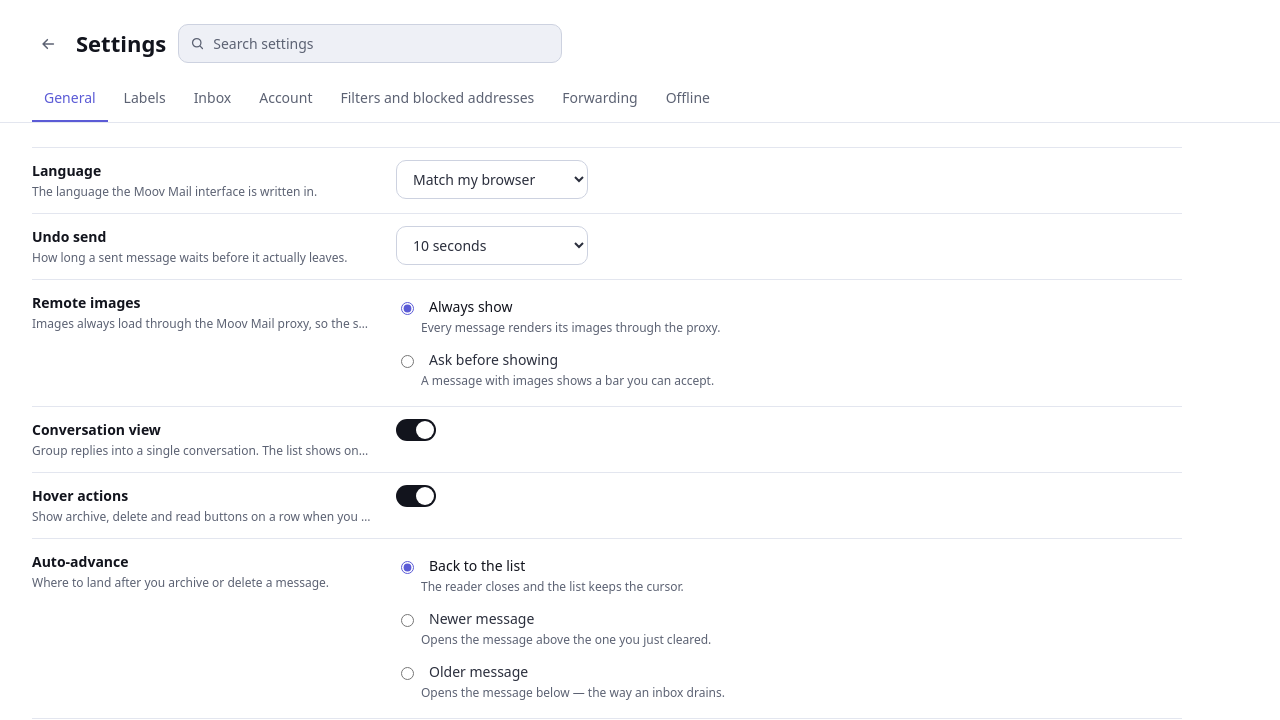
Test case: the tab row › switches the panel when a tab is chosen
The width and height of the screenshot is (1280, 720).
Click the tab "Inbox".
click(212, 98)  # box [182, 75, 243, 122]
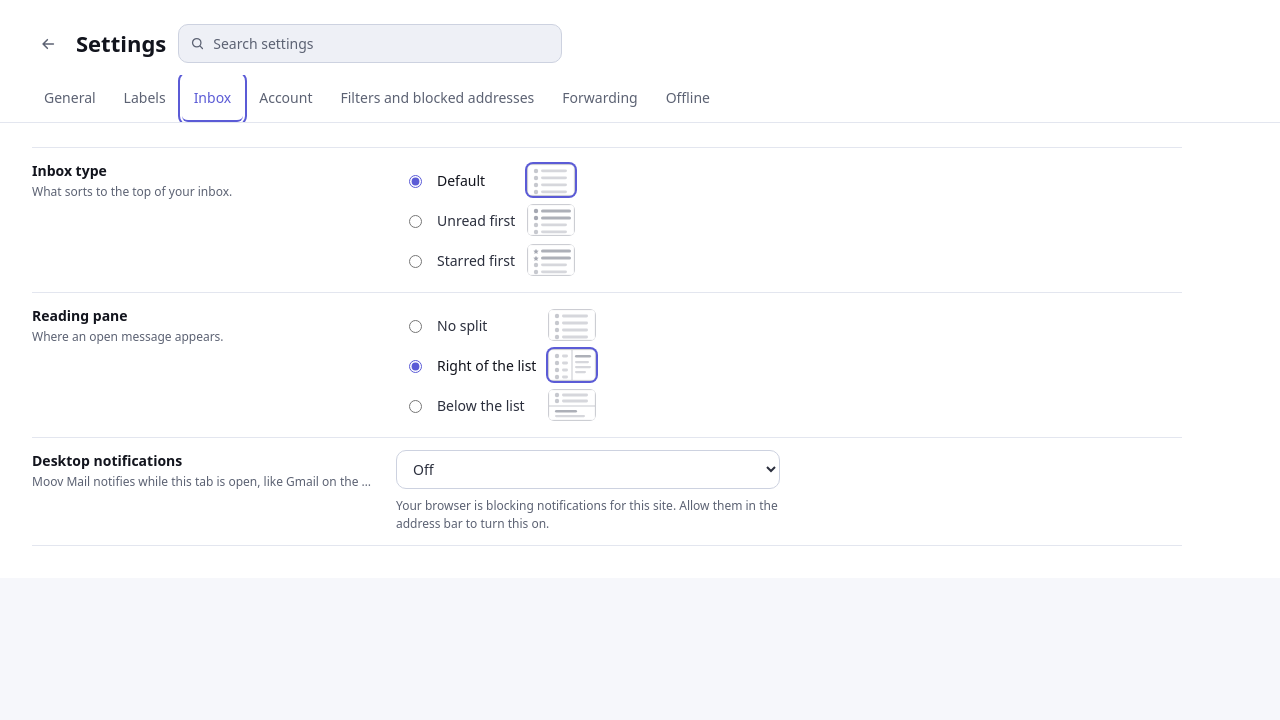
Expected: the element named "Inbox type" is shown, [396, 160, 583, 280]
